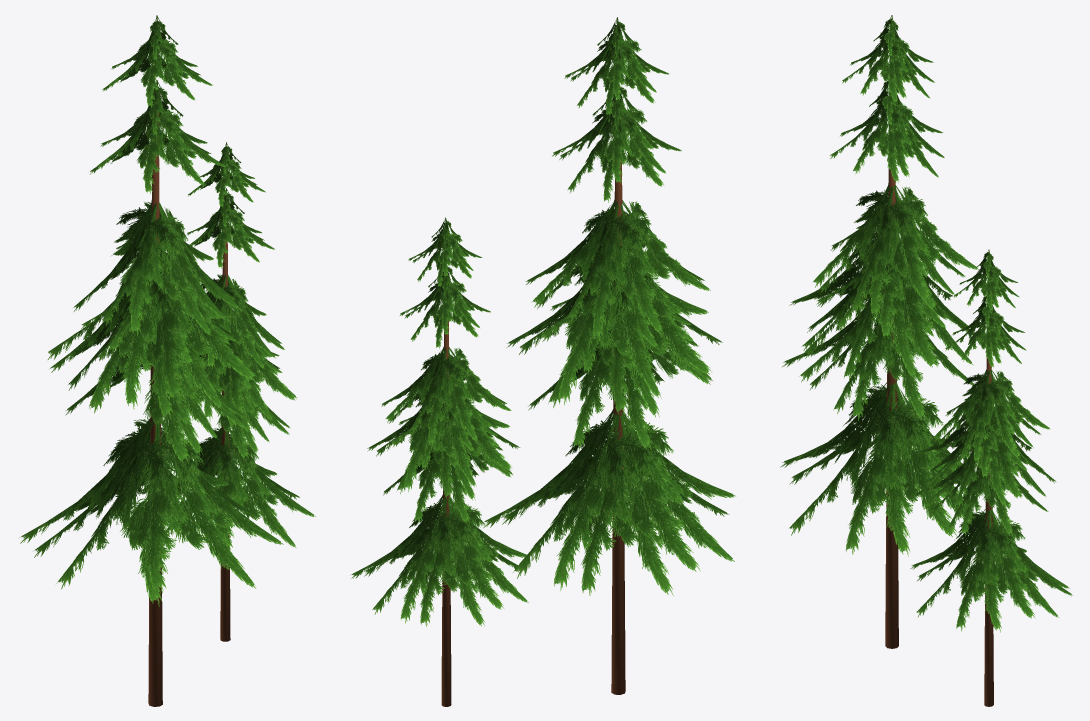
Rendered from Pine_Stylized_06_Tree.glb.
3 views of the same model, side by side, from view 1: azimuth 30°, elevation 25°; view 2: azimuth 150°, elevation 25°; view 3: azimuth 270°, elevation 25° (orthographic). The views are drawn at different scales.
Parts seen in each view (by area): view 1: Cylinder.005_1, Cylinder.005_0; view 2: Cylinder.005_1, Cylinder.005_0; view 3: Cylinder.005_1, Cylinder.005_0.
Part boxes in pixels (<box>): Cylinder.005_1: <box>19,15,315,606</box>; Cylinder.005_0: <box>148,112,230,706</box>; Cylinder.005_1: <box>351,17,735,626</box>; Cylinder.005_0: <box>441,161,625,706</box>; Cylinder.005_1: <box>780,15,1072,632</box>; Cylinder.005_0: <box>885,125,993,706</box>.
Bounding box in the file's own units: 5.23 × 10.77 × 4.67.
Materials: 2 (2 with a texture image).
